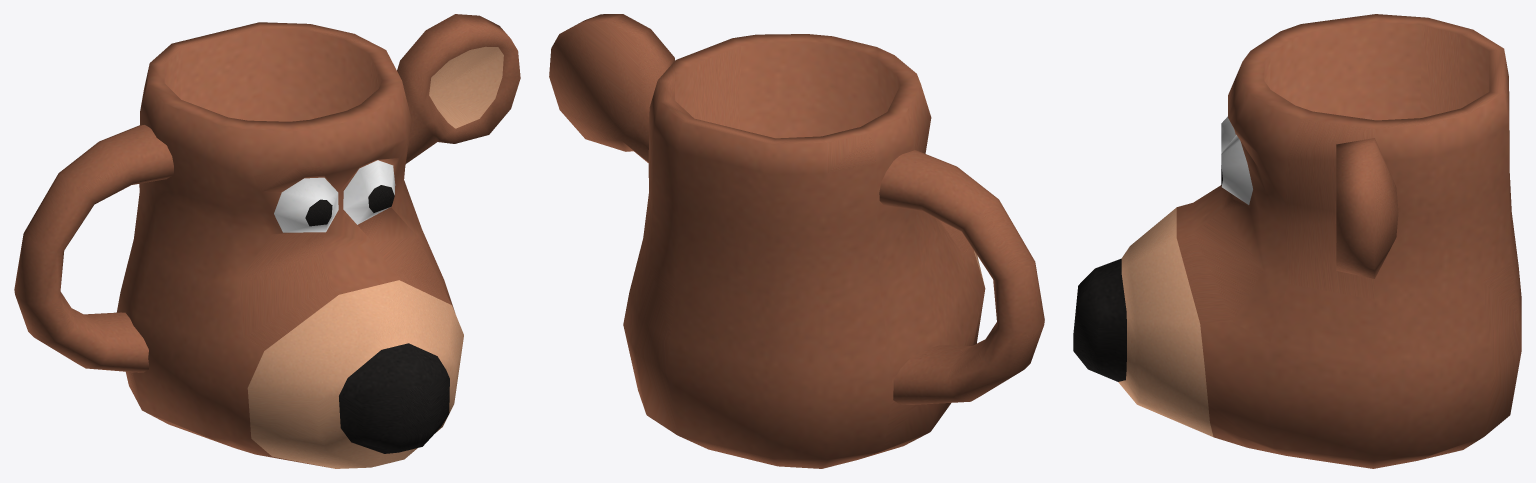
The model's file is FregitMug LOD1.fbx.
The picture shows the model from 3 angles, left to right: view 1: azimuth 30°, elevation 25°; view 2: azimuth 150°, elevation 25°; view 3: azimuth 270°, elevation 25°; orthographic projection. The views are drawn at different scales.
Parts seen in each view (by area): view 1: Circle.001; view 2: Circle.001; view 3: Circle.001.
Part boxes in pixels (box(x1,y1,x2,y2)): Circle.001: box(14, 14, 520, 468); Circle.001: box(549, 14, 1044, 468); Circle.001: box(1073, 14, 1521, 468).
Bounding box in the file's own units: 24.41 × 17.18 × 18.49.
